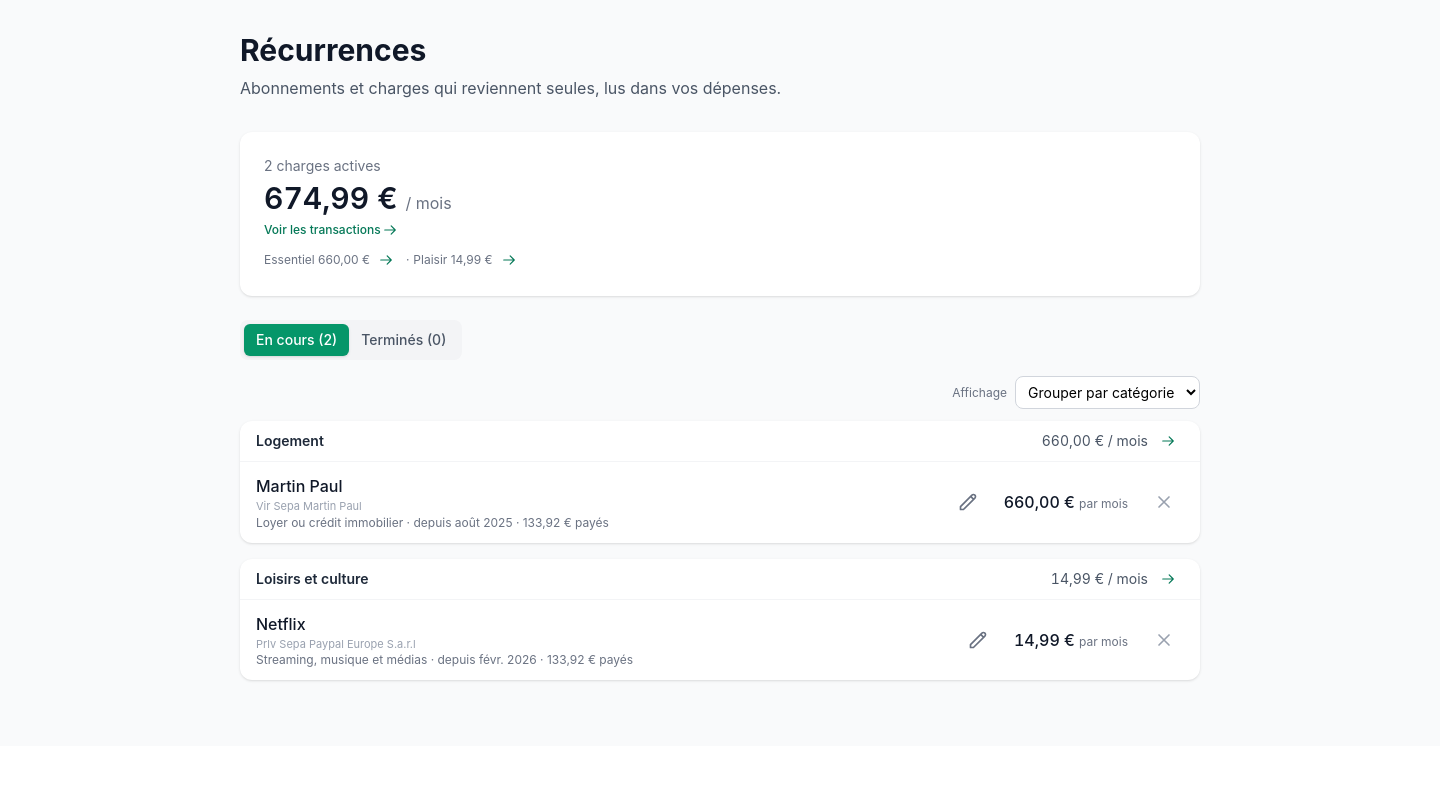
RecurrencesPage › dismisses a series and shows the list the server answers
What coordinates should you click on to do the following:
click the button with test id "dismiss-recurrence"
I would click on:
 (1164, 640)
Its box is [1144, 620, 1184, 660].
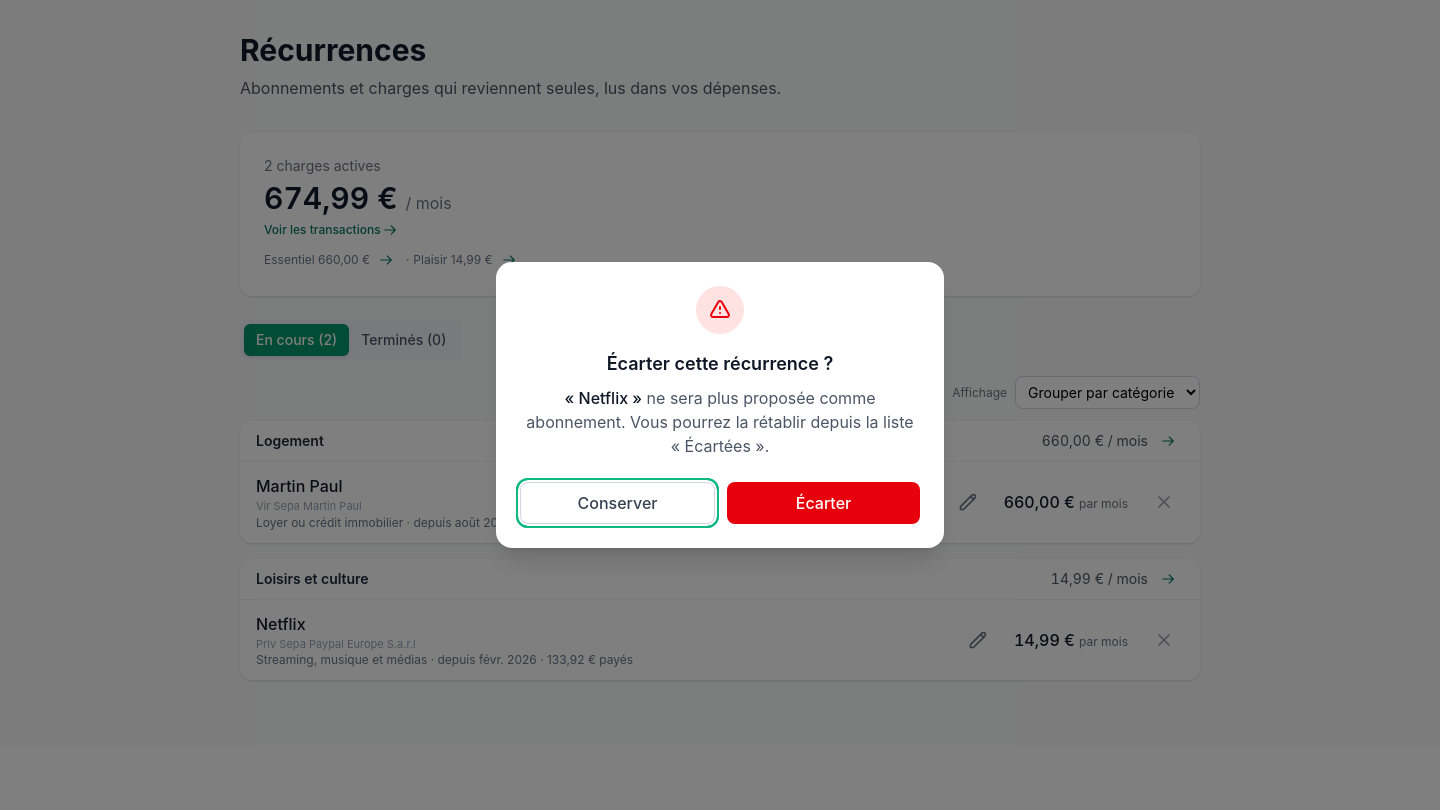
Result: the dialog shows "Netflix" at [564, 388, 642, 408]
What coordinates should you click on to do the following:
click the button with test id "confirm-dialog-confirm"
I would click on:
 (824, 503)
Its box is [727, 482, 920, 524].
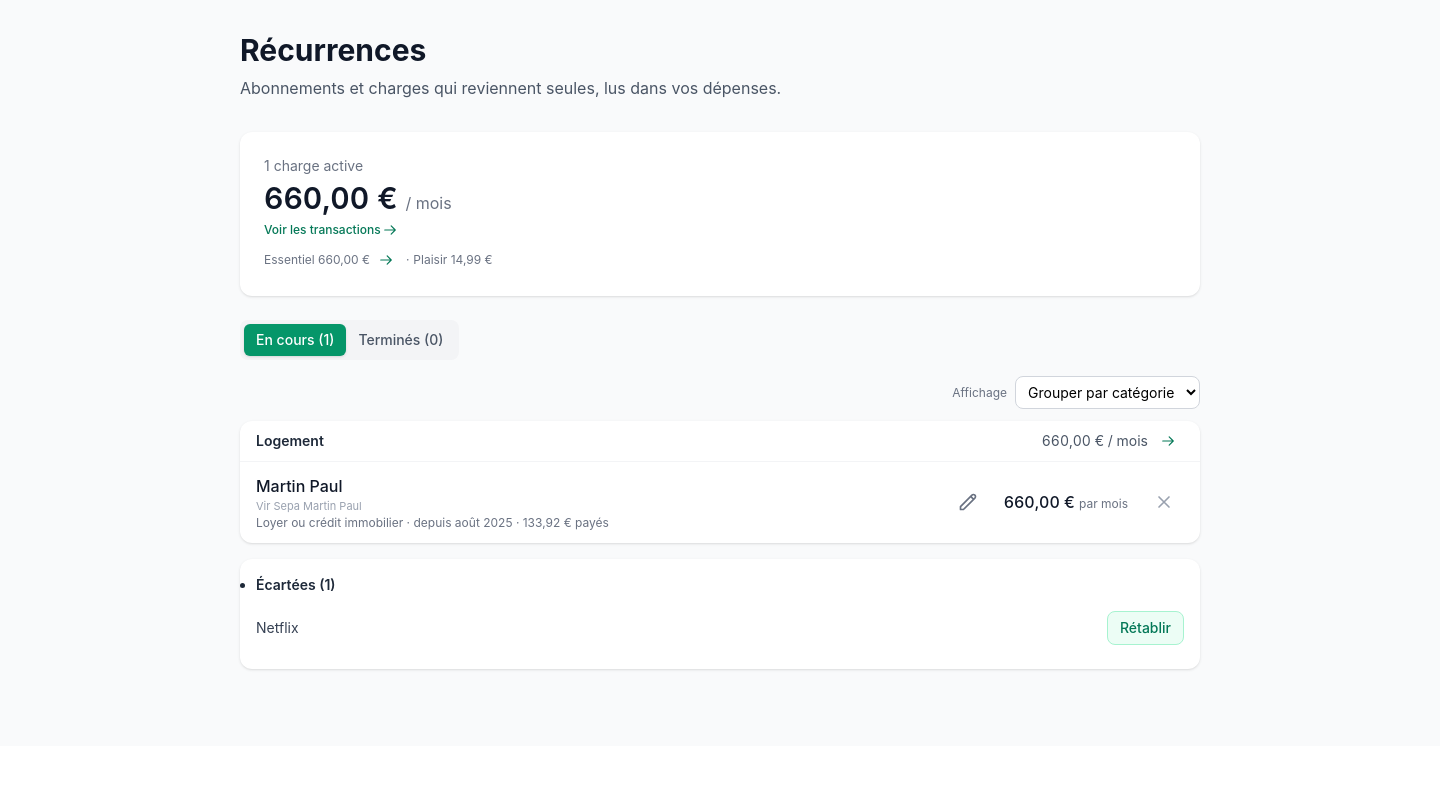
Result: the number of list items with test id "recurrence-row" is 1 at [240, 462, 1200, 542]
Result: the element with test id "recurrence-dismissed" shows "Netflix" at [256, 618, 299, 636]
